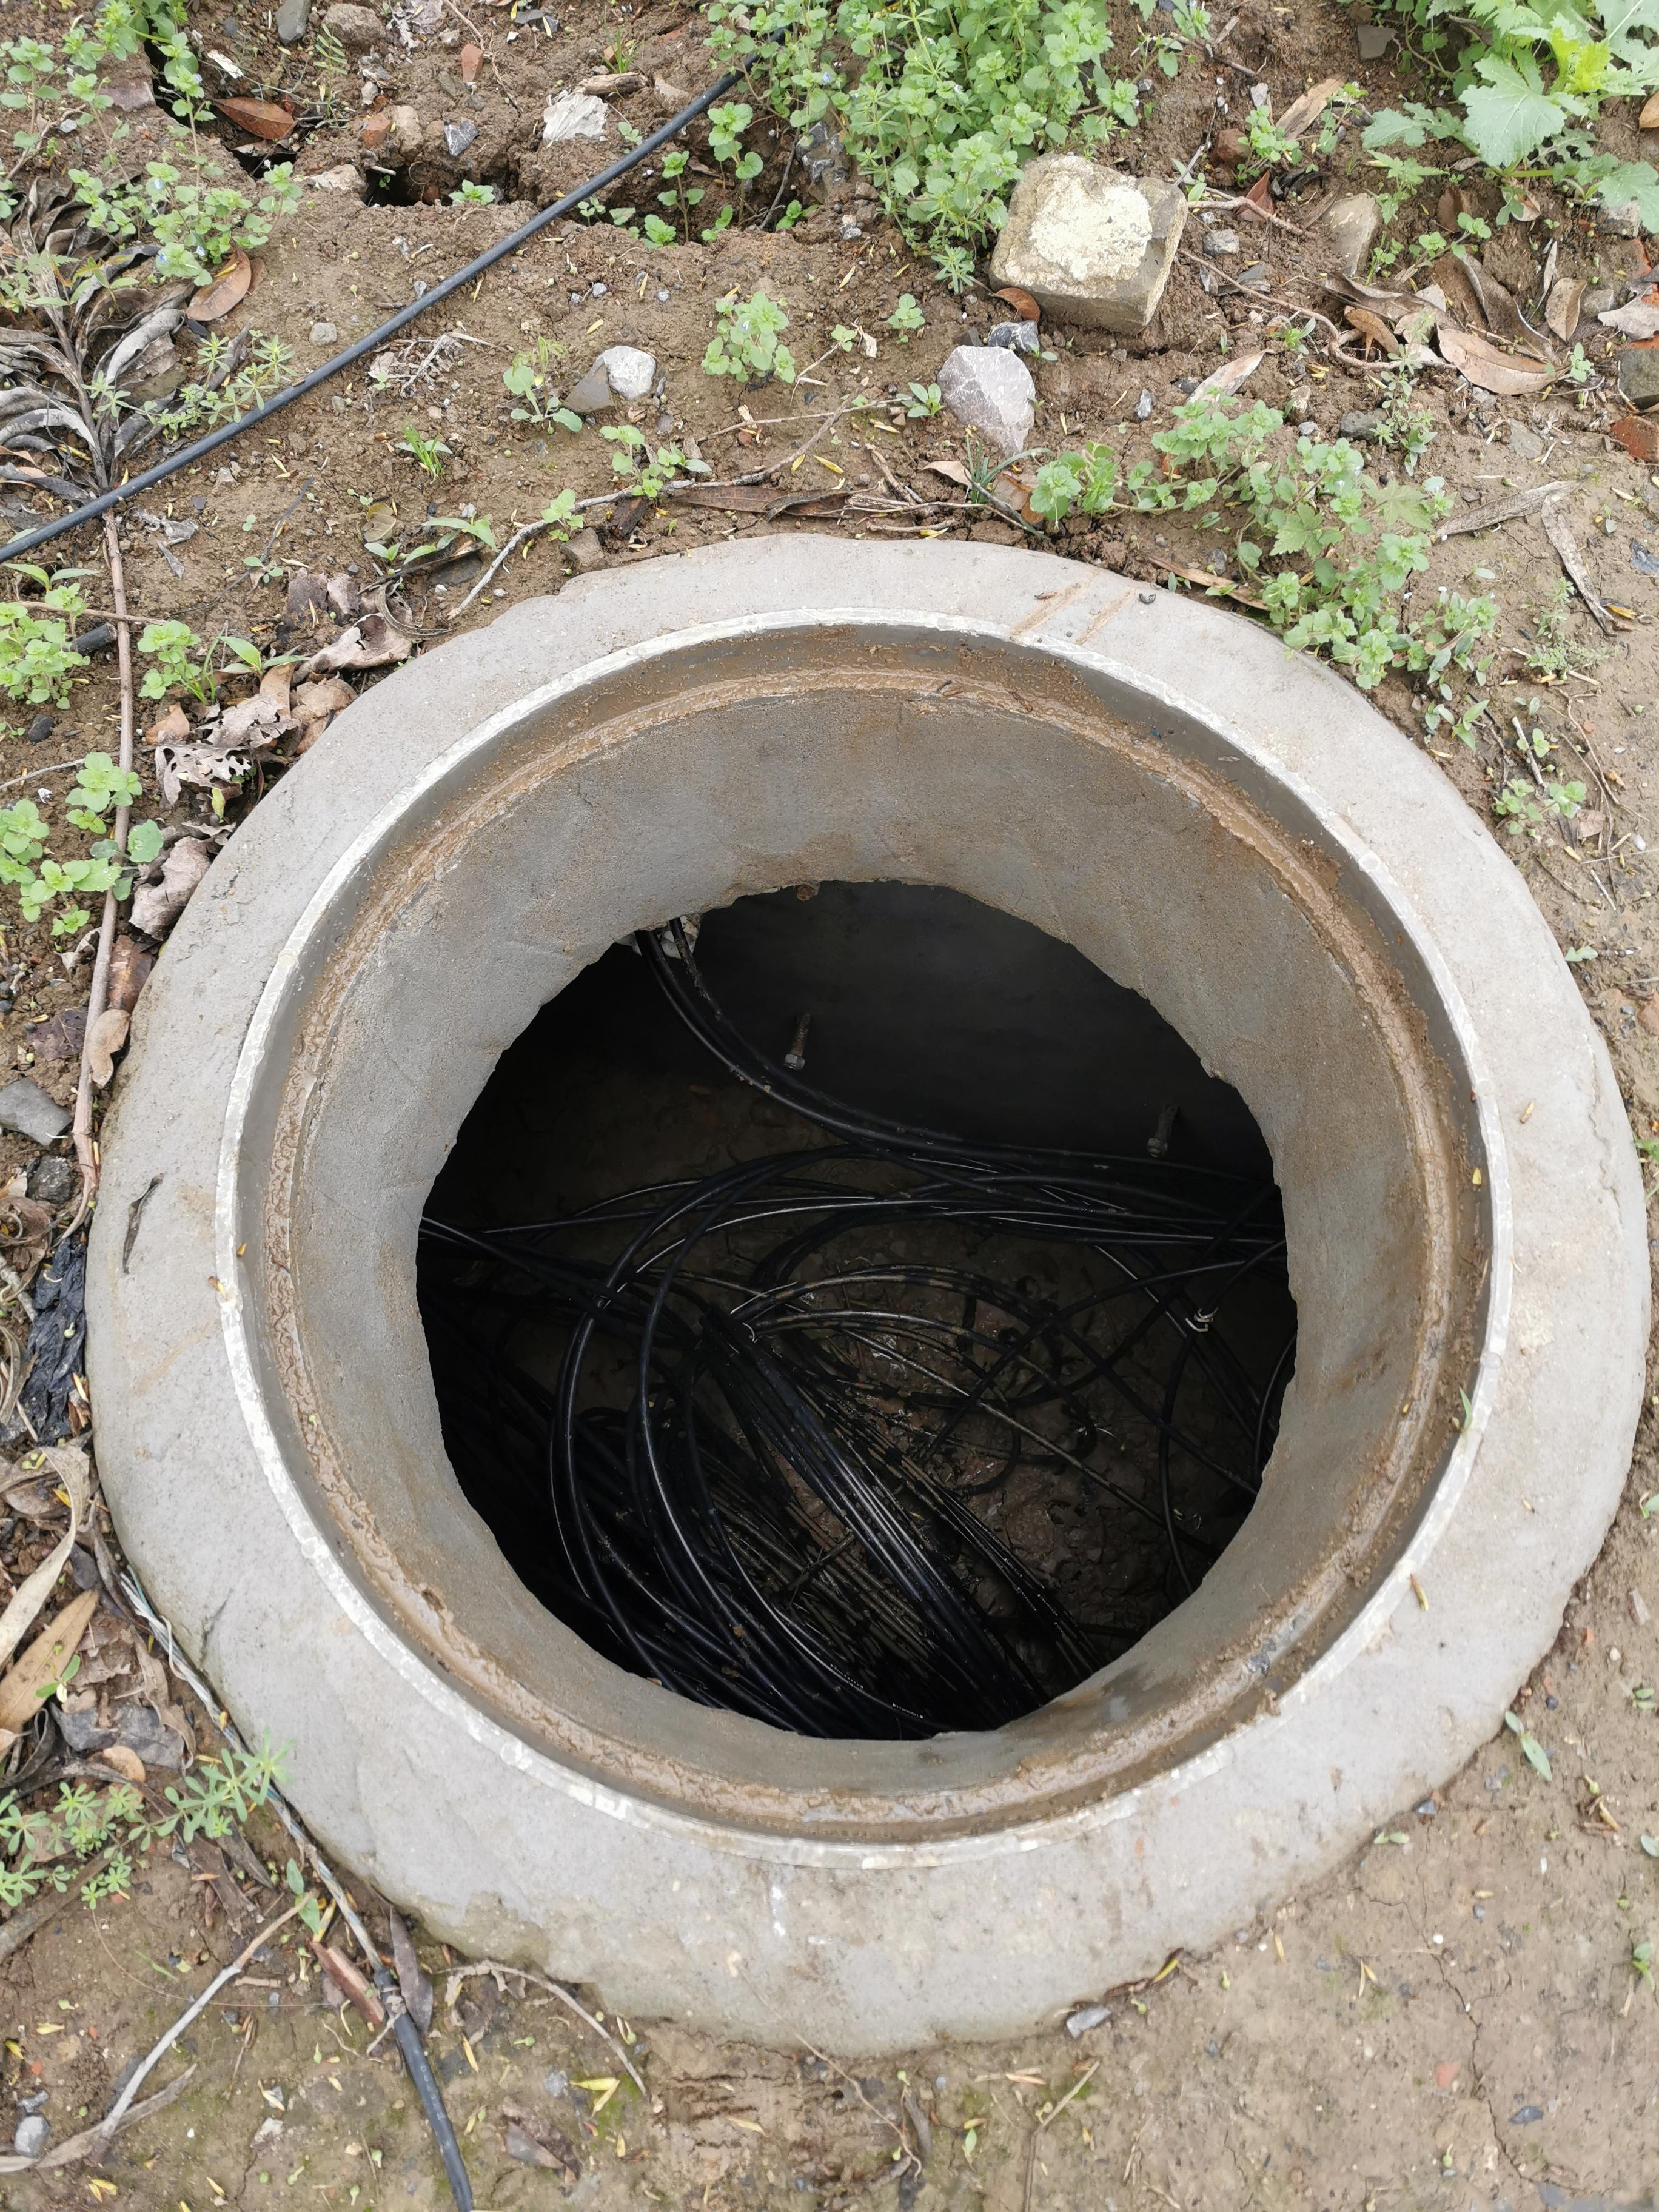wellcover: (171, 597, 1480, 1902)
